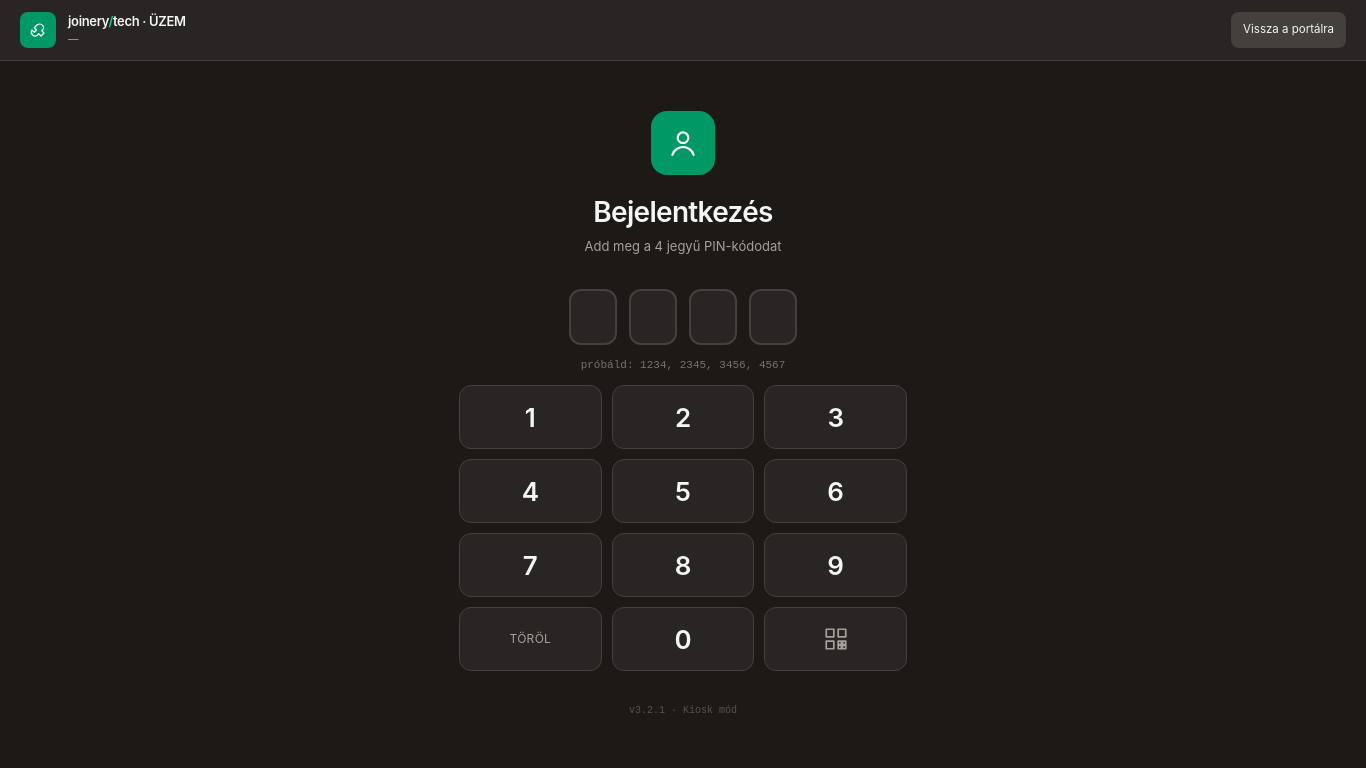
Test: ShopFloorPage › shows error for wrong PIN
Click the button "9".
click(836, 565)  # box [764,533,907,597]
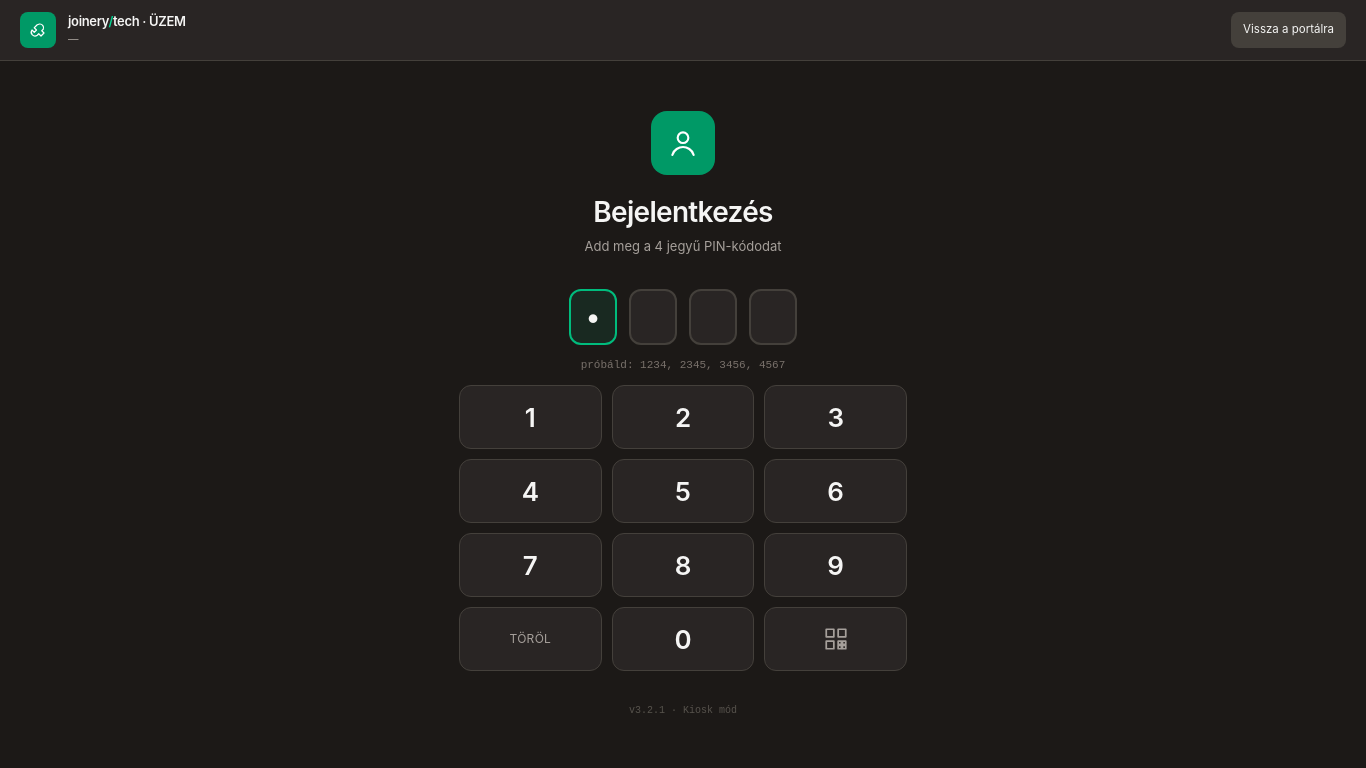
Click the button "9".
click(836, 565)  # box [764,533,907,597]
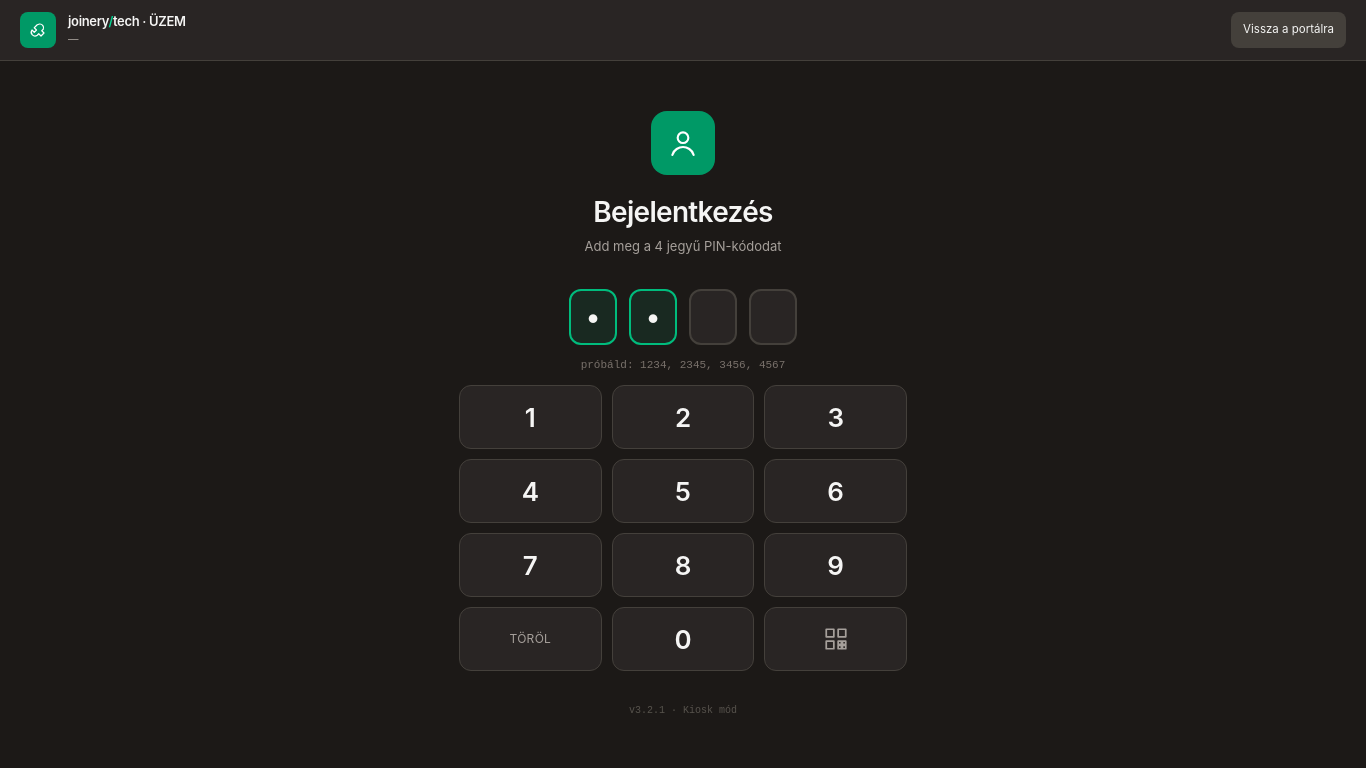
Click the button "9".
click(836, 565)  # box [764,533,907,597]
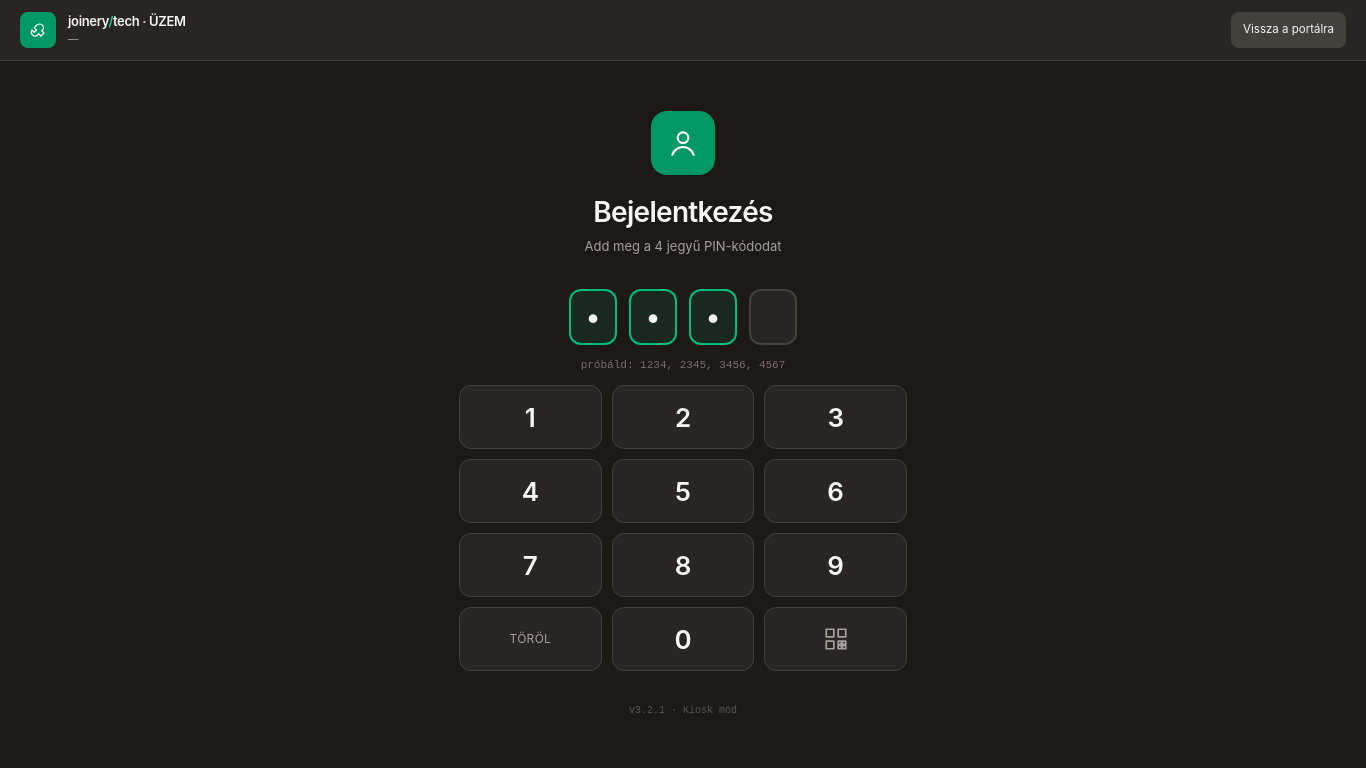
Click the button "9".
click(836, 565)  # box [764,533,907,597]
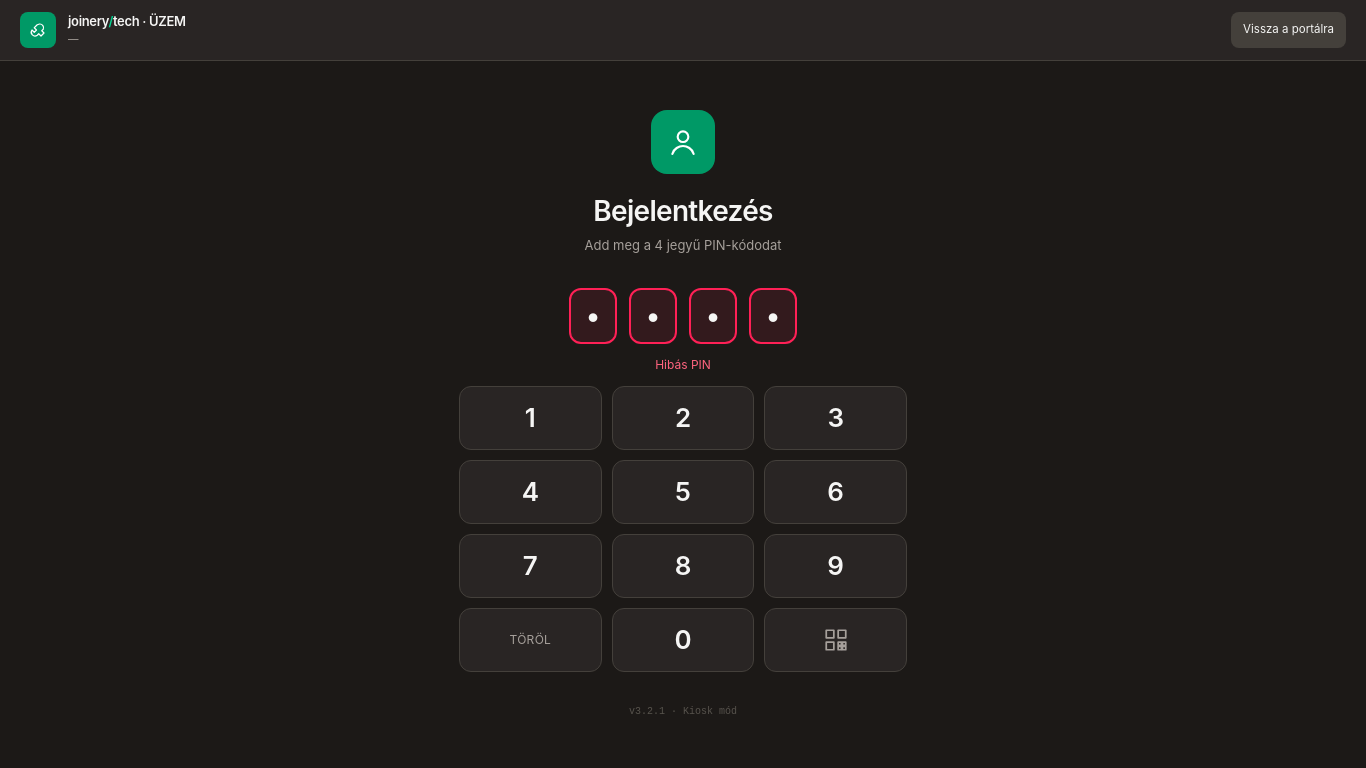
Check: the text "Hibás PIN" is shown, box [655,357,711,372]
